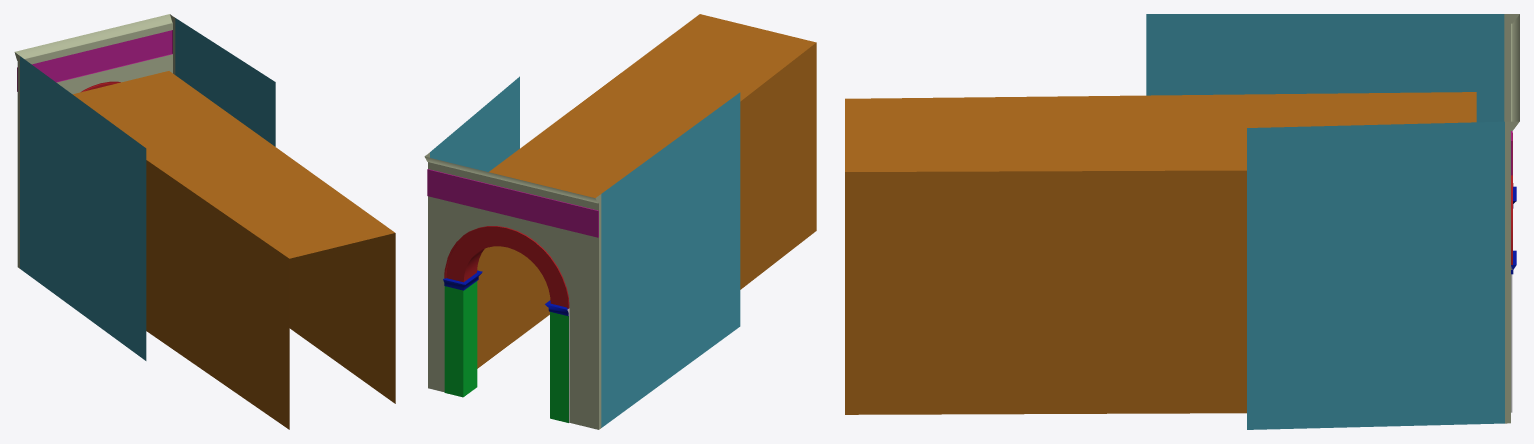
Rendered from Aditus2.fbx.
3 views of the same model, side by side, from view 1: azimuth 30°, elevation 25°; view 2: azimuth 150°, elevation 25°; view 3: azimuth 270°, elevation 25° (orthographic). The views are drawn at different scales.
Parts seen in each view (by area): view 1: Aditus_Maximus.001; view 2: Aditus_Maximus.001; view 3: Aditus_Maximus.001.
Boxes of the visible parts, <box> form: Aditus_Maximus.001: <box>14,14,395,429</box>; Aditus_Maximus.001: <box>424,14,816,429</box>; Aditus_Maximus.001: <box>845,14,1519,429</box>.
Bounding box in the file's own units: 640 × 790 × 1600.
